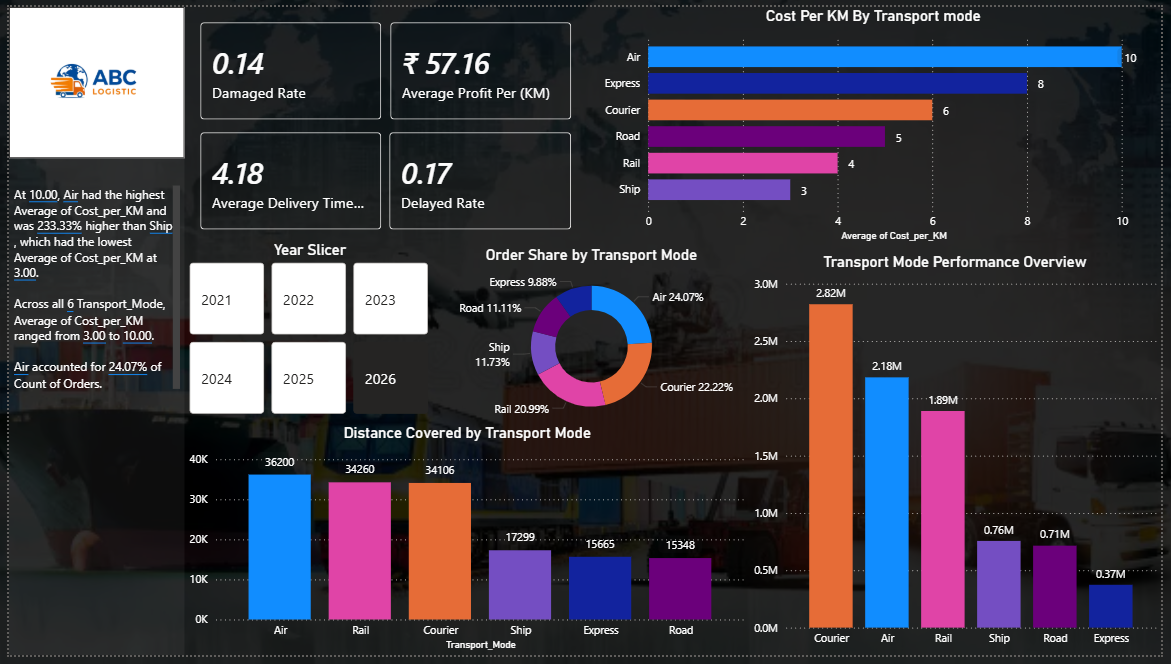

This screenshot's page, from the dashboard's own definition file:
{"tool":"powerbi","page":{"name":"Transport Mode","canvas":[1280,720],"ordinal":1},"visuals":[{"type":"cardVisual","fields":{"Data":["Logistic.avgdelivery"]},"box":[195,122.5,235,142.5],"z":0},{"type":"cardVisual","fields":{"Data":["Logistic.Delayed %"]},"box":[405,122.5,236.2,142.5],"z":1000},{"type":"shape","box":[0,0,195,720],"z":2000},{"type":"image","box":[0,0,195,167.5],"z":3000},{"type":"columnChart","title":"Transport Mode Performance Overview","fields":{"Category":["Logistic.Transport_Mode"],"Series":["Logistic.Transport_Mode"],"Y":["Sum(Logistic.Profit)"]},"box":[822.5,273.8,457.5,446.2],"z":4000},{"type":"cardVisual","fields":{"Data":["Logistic.Damaged %"]},"box":[195,0,235,142.5],"z":5000},{"type":"cardVisual","fields":{"Data":["Logistic.Profit Per(KM)"]},"box":[406.2,0,235,142.5],"z":6000},{"type":"columnChart","title":"Distance Covered by Transport Mode","fields":{"Category":["Logistic.Transport_Mode"],"Y":["Logistic.sum of distance covered"],"Series":["Logistic.Transport_Mode"]},"box":[195,463.8,627.5,256.2],"z":7000},{"type":"barChart","title":"Cost Per KM By Transport mode","fields":{"Category":["Logistic.Transport_Mode"],"Y":["Avg(Logistic.Cost_per_KM)"],"Series":["Logistic.Transport_Mode"]},"box":[652.5,0,616.2,265],"z":8000},{"type":"donutChart","title":"Order Share by Transport Mode","fields":{"Y":["Logistic.Count of Orders"],"Category":["Logistic.Transport_Mode"]},"box":[472.5,265,350,203.8],"z":9000},{"type":"textbox","box":[0,193.8,195,252.5],"z":10000},{"type":"advancedSlicerVisual","title":"Year Slicer","fields":{"Values":["Logistic.Order Year"]},"box":[195,260,277.5,198.8],"z":11000}]}

Visuals, with their boxes in screenshot pixels (x1, y1, x2, y2), scaled from the page's 1280x720 canvas onto the 1171x664 screenshot:
cardVisual - Logistic.avgdelivery: x1=178, y1=113, x2=393, y2=244
cardVisual - Logistic.Delayed %: x1=371, y1=113, x2=587, y2=244
shape: x1=0, y1=0, x2=178, y2=663
image: x1=0, y1=0, x2=178, y2=154
"Transport Mode Performance Overview" columnChart: x1=752, y1=253, x2=1170, y2=663
cardVisual - Logistic.Damaged %: x1=178, y1=0, x2=393, y2=131
cardVisual - Logistic.Profit Per(KM): x1=372, y1=0, x2=587, y2=131
"Distance Covered by Transport Mode" columnChart: x1=178, y1=428, x2=752, y2=663
"Cost Per KM By Transport mode" barChart: x1=597, y1=0, x2=1161, y2=244
"Order Share by Transport Mode" donutChart: x1=432, y1=244, x2=752, y2=432
textbox: x1=0, y1=179, x2=178, y2=412
"Year Slicer" advancedSlicerVisual: x1=178, y1=240, x2=432, y2=423
